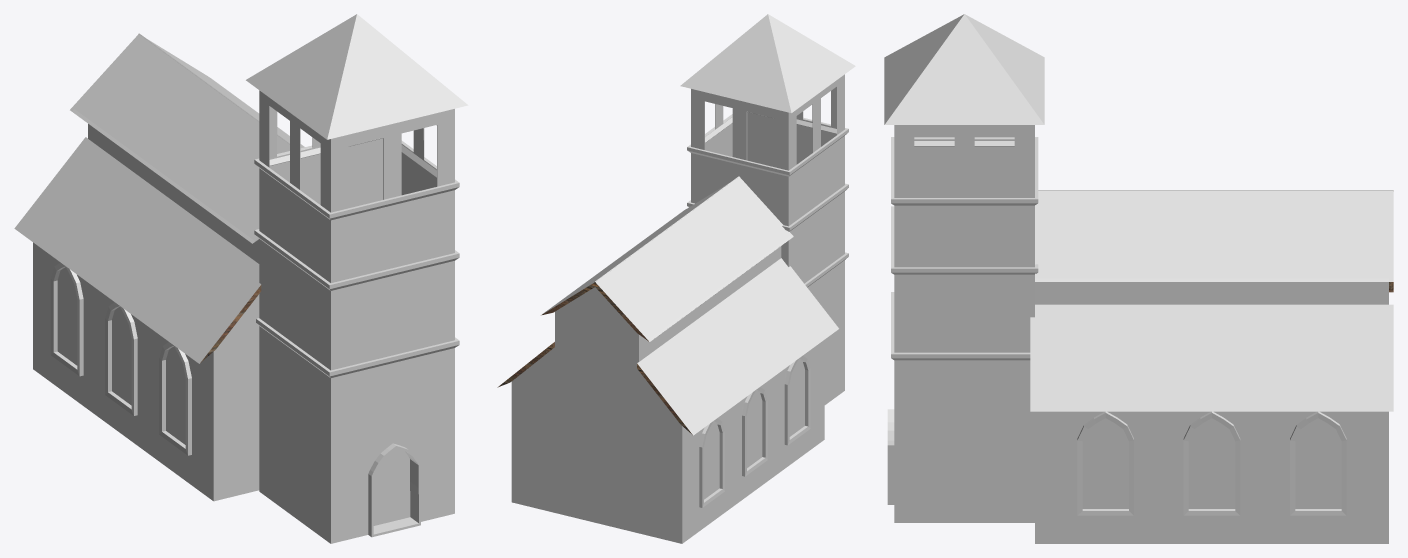
The model's file is Church.fbx.
3 renders of one model, left to right at view 1: azimuth 30°, elevation 25°; view 2: azimuth 150°, elevation 25°; view 3: azimuth 270°, elevation 25°, orthographic. The views are drawn at different scales.
Parts seen in each view (by area): view 1: Front, Back, Door_r, Door_l; view 2: Back, Front; view 3: Back, Front.
Part boxes in pixels (x1,y1,x2,y2): Front: [246, 14, 468, 543]; Back: [14, 33, 304, 501]; Door_r: [387, 448, 410, 522]; Door_l: [373, 456, 387, 525]; Back: [497, 176, 838, 543]; Front: [680, 14, 855, 404]; Back: [1030, 190, 1393, 543]; Front: [884, 14, 1044, 522].
Bounding box in the file's own units: 1257 × 2357 × 2269.
